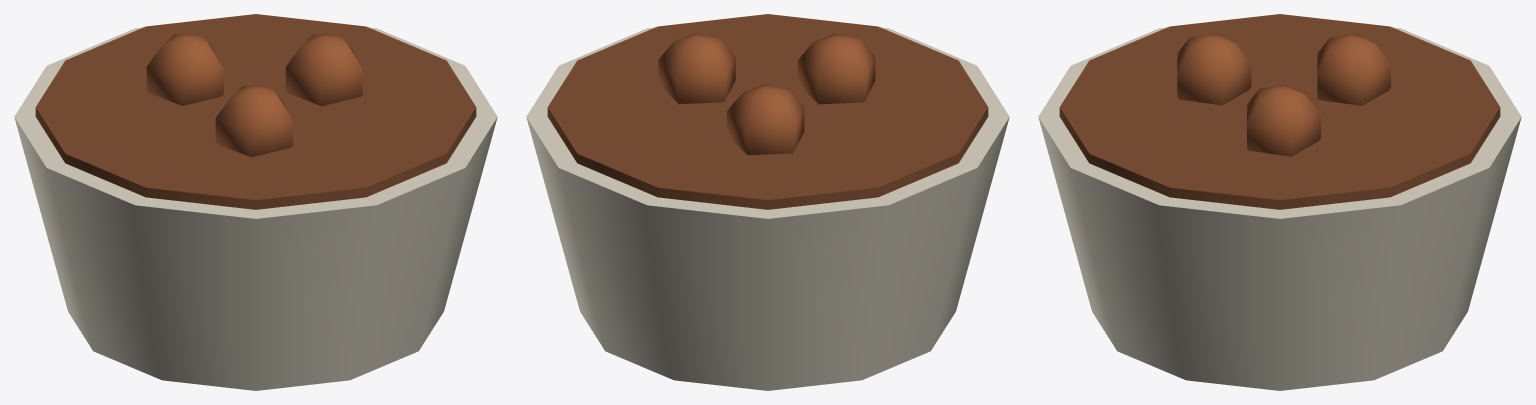
File: good-stew.glb
The picture shows the model from 3 angles, left to right: view 1: azimuth 30°, elevation 25°; view 2: azimuth 150°, elevation 25°; view 3: azimuth 270°, elevation 25°; orthographic projection.
Parts seen in each view (by area): view 1: #d8d2c0, #7a4a2c_noshadow, #9a5a34_noshadow; view 2: #d8d2c0, #7a4a2c_noshadow, #9a5a34_noshadow; view 3: #d8d2c0, #7a4a2c_noshadow, #9a5a34_noshadow.
Part boxes in pixels (box(x1,y1,x2,y2)): #d8d2c0: box(14, 27, 497, 390); #7a4a2c_noshadow: box(35, 14, 476, 209); #9a5a34_noshadow: box(146, 34, 362, 157); #d8d2c0: box(526, 27, 1009, 390); #7a4a2c_noshadow: box(547, 14, 988, 209); #9a5a34_noshadow: box(658, 33, 875, 155); #d8d2c0: box(1038, 27, 1521, 390); #7a4a2c_noshadow: box(1059, 14, 1500, 209); #9a5a34_noshadow: box(1177, 33, 1390, 156).
Size of the model in its own units: 0.18 by 0.106 by 0.18.
